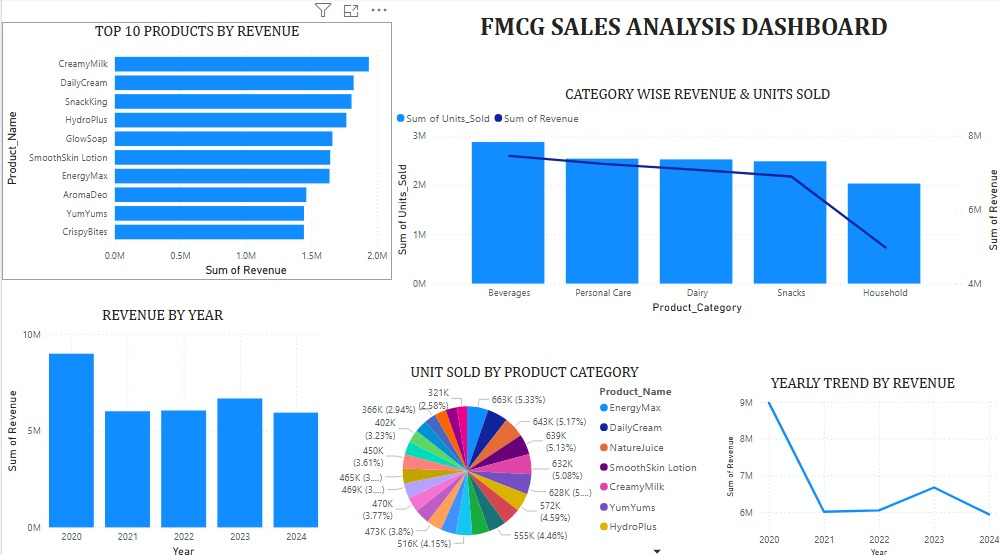

What the dashboard file says about the page in this screenshot:
{"tool":"powerbi","page":{"name":"Page 1","canvas":[1280,720],"ordinal":0},"visuals":[{"type":"clusteredColumnChart","title":"REVENUE BY YEAR","fields":{"Category":["Worksheet.Year"],"Y":["Sum(Worksheet.Revenue)"]},"box":[0,393.5,410.3,326.5],"z":0},{"type":"pieChart","title":"UNIT SOLD BY PRODUCT CATEGORY","fields":{"Category":["Worksheet.Product_Name"],"Y":["Sum(Worksheet.Units_Sold)"]},"box":[420.4,466.2,494.2,253.8],"z":1000},{"type":"barChart","title":"TOP 10 PRODUCTS BY REVENUE","fields":{"Y":["Sum(Worksheet.Revenue)"],"Category":["Worksheet.Product_Name"]},"box":[0,30.2,498.6,329.8],"z":2000},{"type":"lineChart","title":"YEARLY TREND BY REVENUE","fields":{"Y":["Sum(Worksheet.Revenue)"],"Category":["Worksheet.Year"]},"box":[920.1,480.7,360,239.3],"z":3000},{"type":"lineStackedColumnComboChart","title":"CATEGORY WISE REVENUE & UNITS SOLD","fields":{"Category":["Worksheet.Product_Category"],"Y":["Sum(Worksheet.Units_Sold)"],"Y2":["Sum(Worksheet.Revenue)"]},"box":[498.6,111.8,781.5,297.4],"z":4000},{"type":"textbox","box":[510.9,13.4,721.1,83.9],"z":4001}]}

Visuals, with their boxes in screenshot pixels (x1, y1, x2, y2), scaled from the page's 1280x720 canvas onto the 1000x555 screenshot:
"REVENUE BY YEAR" clusteredColumnChart: bbox=[0, 303, 321, 554]
"UNIT SOLD BY PRODUCT CATEGORY" pieChart: bbox=[328, 359, 715, 554]
"TOP 10 PRODUCTS BY REVENUE" barChart: bbox=[0, 23, 390, 278]
"YEARLY TREND BY REVENUE" lineChart: bbox=[719, 371, 999, 554]
"CATEGORY WISE REVENUE & UNITS SOLD" lineStackedColumnComboChart: bbox=[390, 86, 999, 315]
textbox: bbox=[399, 10, 962, 75]
